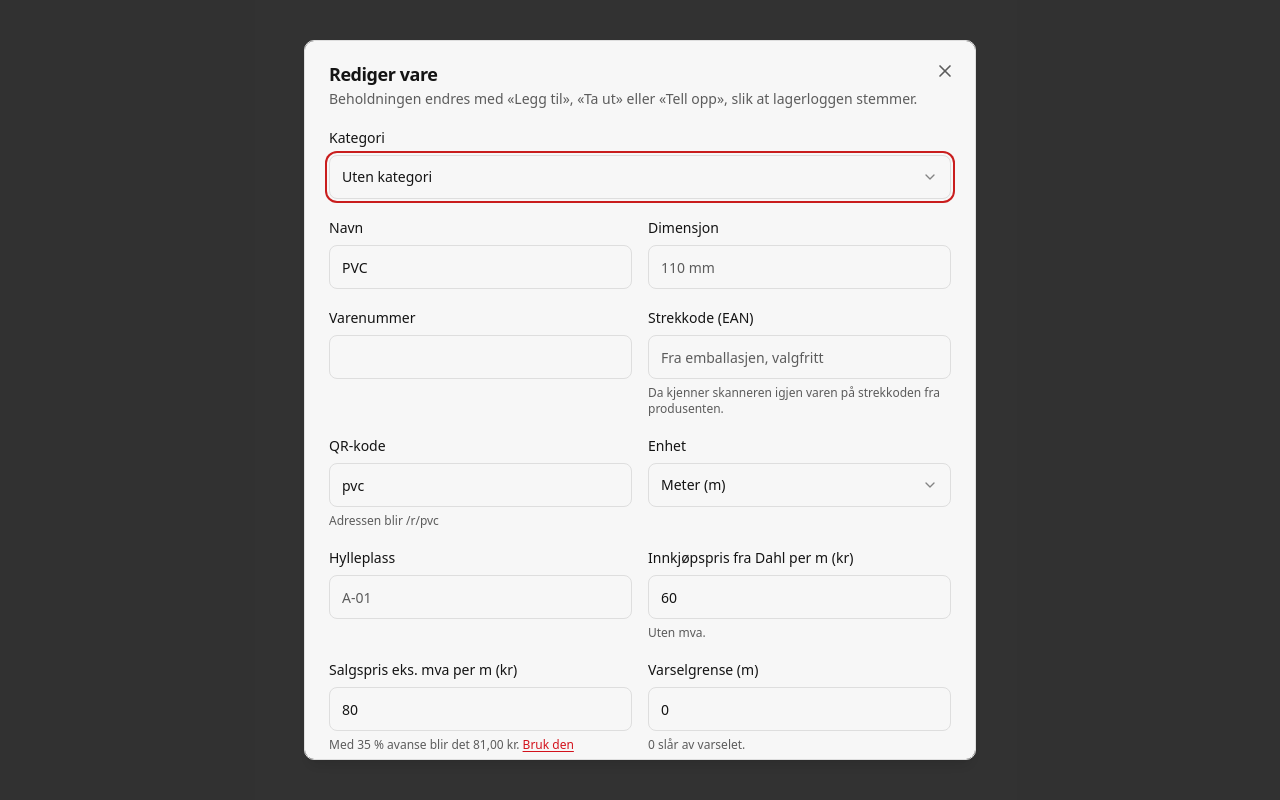
Scenario: eksisterende vare › blir ikke regnet om når innkjøpsprisen endres, men viser hva avansen gir
Replace the text in the field labelled "Innkjøpspris fra Dahl per m (kr)" with "70" at (800, 597), box left=648, top=575, right=951, bottom=619
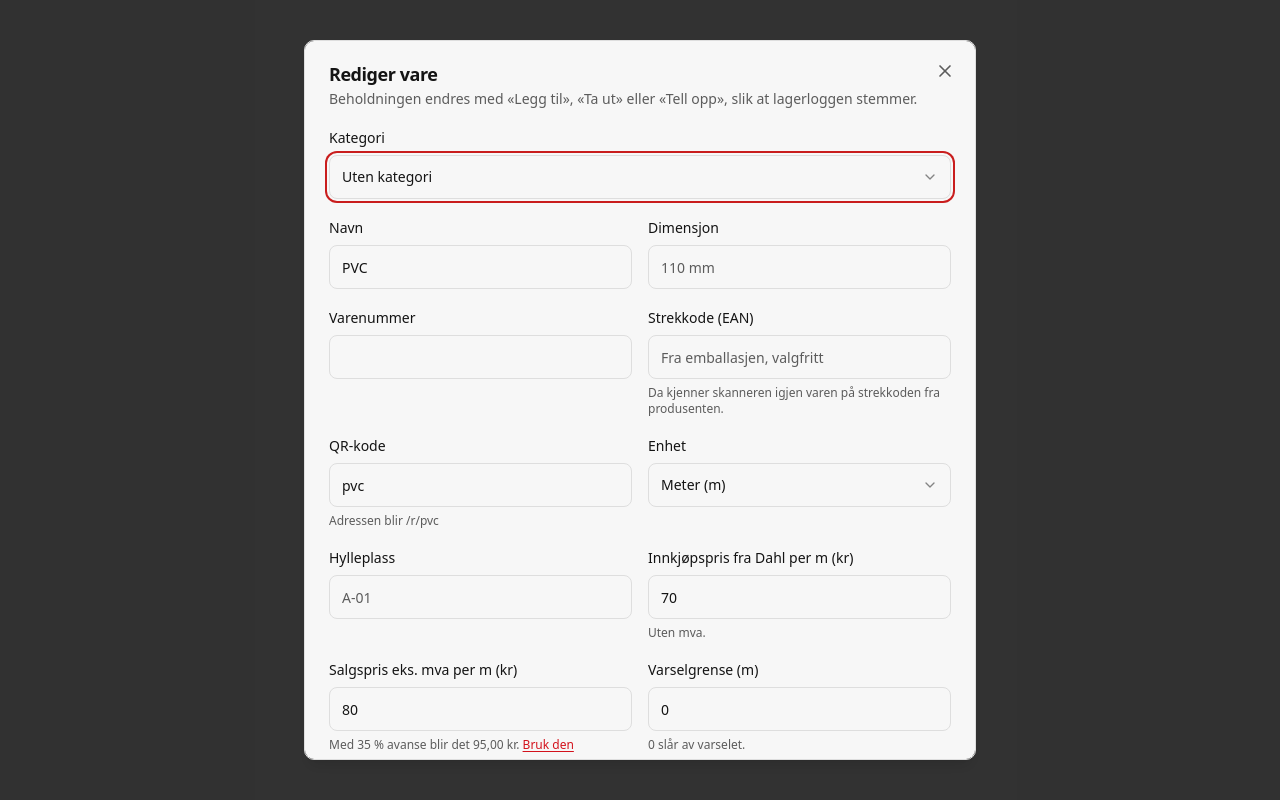
Expected: the field labelled "Salgspris eks. mva per m (kr)" holds "80", left=329, top=687, right=632, bottom=731
Now the text "Med 35 % avanse blir det 95,00 kr. Bruk den" is shown, box left=329, top=736, right=574, bottom=753
